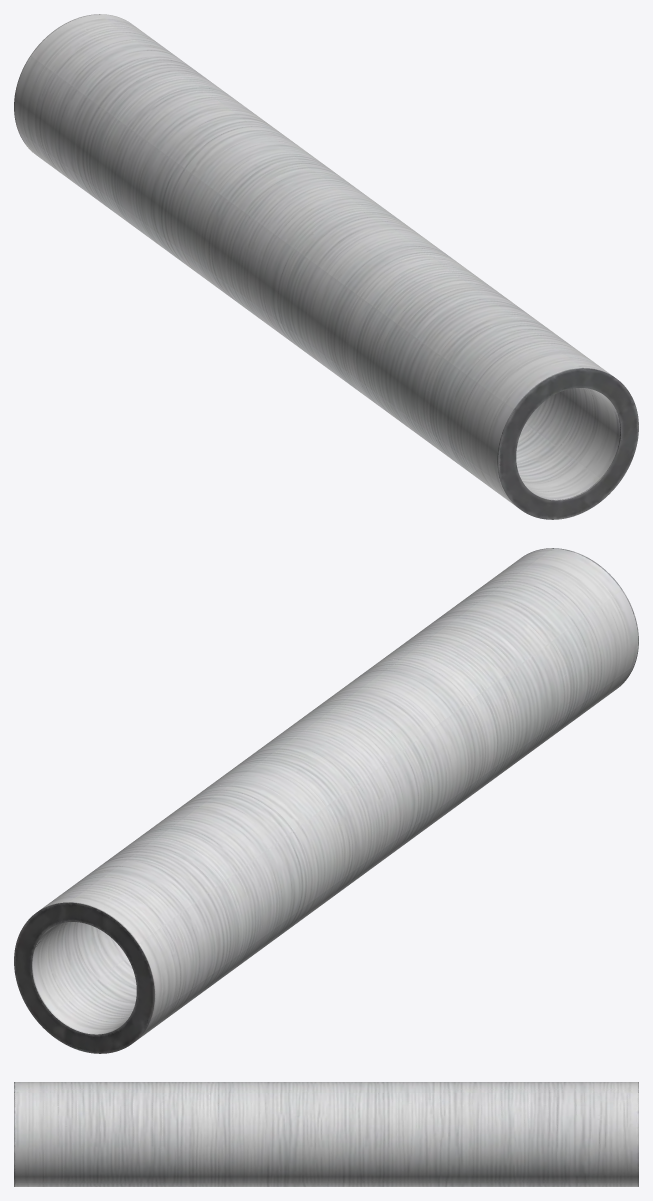
Rendered from body__barrel_shell.glb.
3 views of the same model, one above another, from view 1: azimuth 30°, elevation 25°; view 2: azimuth 150°, elevation 25°; view 3: azimuth 270°, elevation 25° (orthographic). The views are drawn at different scales.
Parts seen in each view (by area): view 1: geometry_0; view 2: geometry_0; view 3: geometry_0.
Boxes of the visible parts, bbox=[...] form: geometry_0: bbox=[14, 14, 638, 519]; geometry_0: bbox=[14, 548, 638, 1053]; geometry_0: bbox=[14, 1082, 638, 1186].
Size of the model in its own units: 0.094 by 0.094 by 0.56.
Materials: 1 (1 with a texture image).
